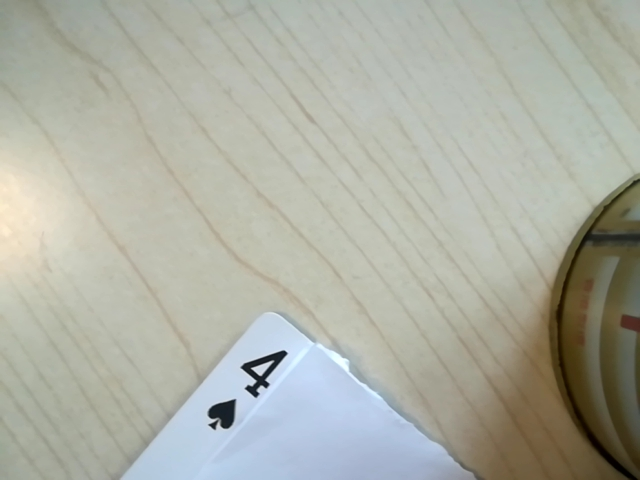ht 4: (189, 339, 298, 450)
